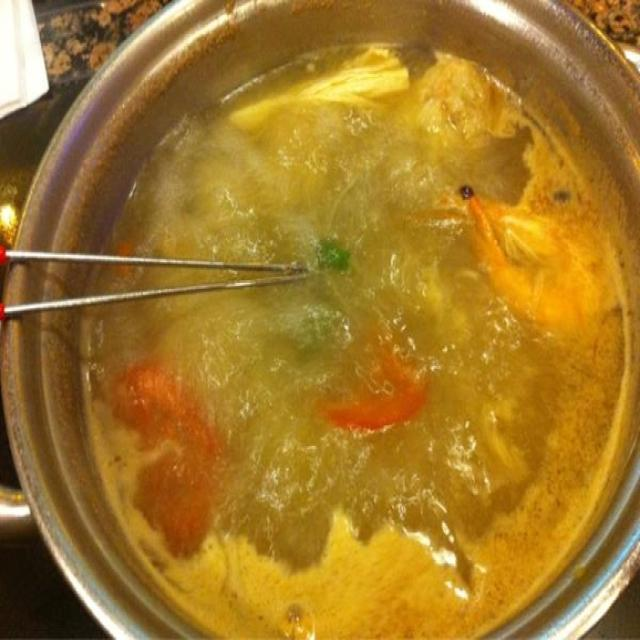汤锅炖物: (14, 18, 624, 628)
